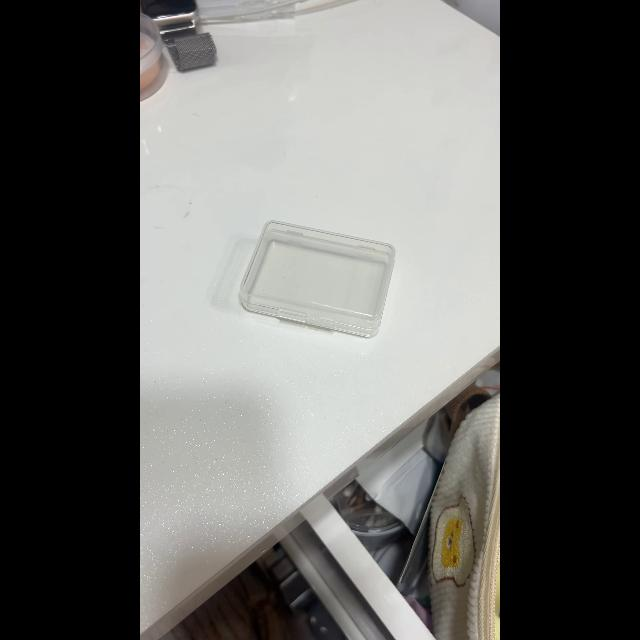clean: (242, 220, 406, 318)
